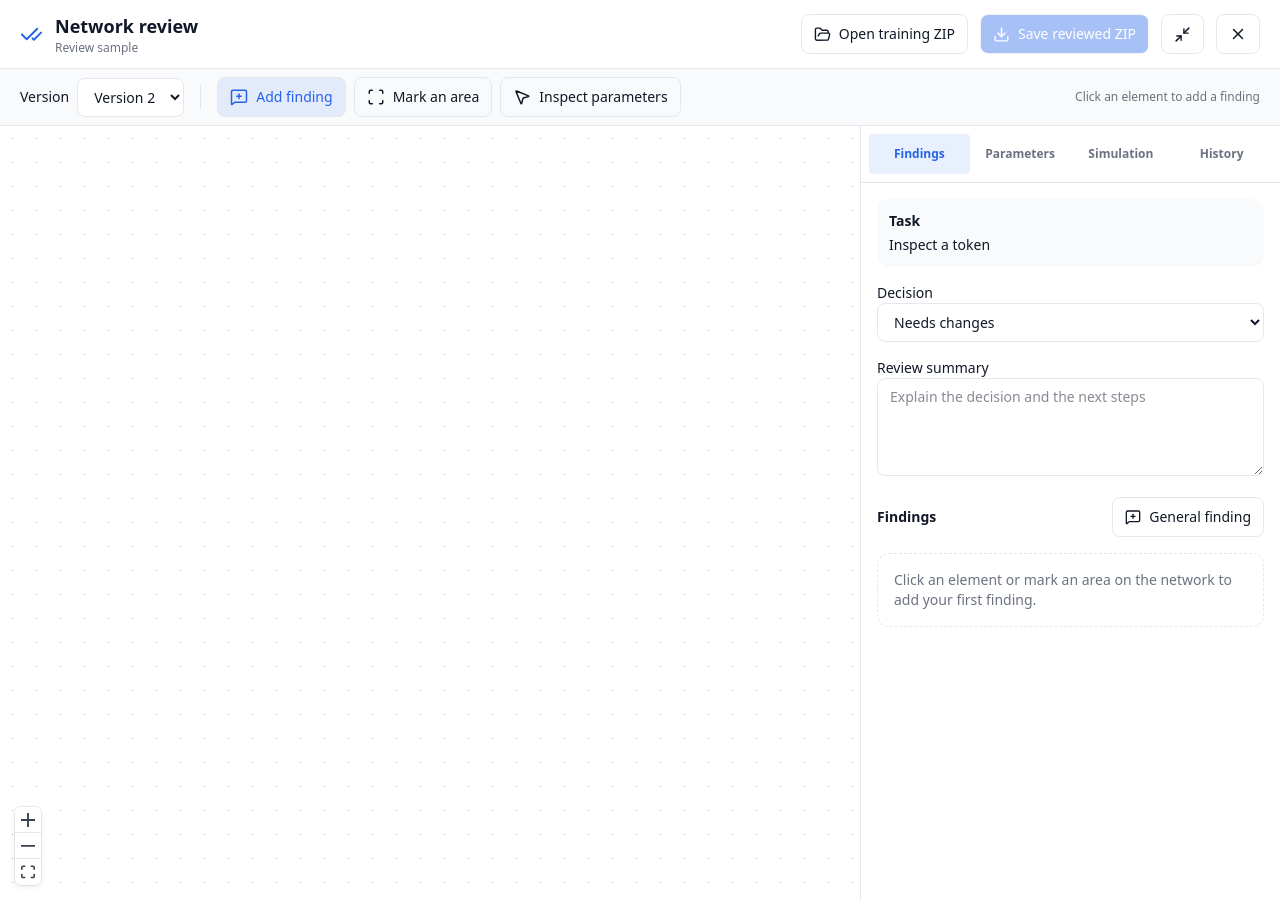
Portable review workspace › requires a reason when automatic runs are disabled
In the text box labelled "Review summary": (1070, 427) [877,378,1264,476], type "Structure only"
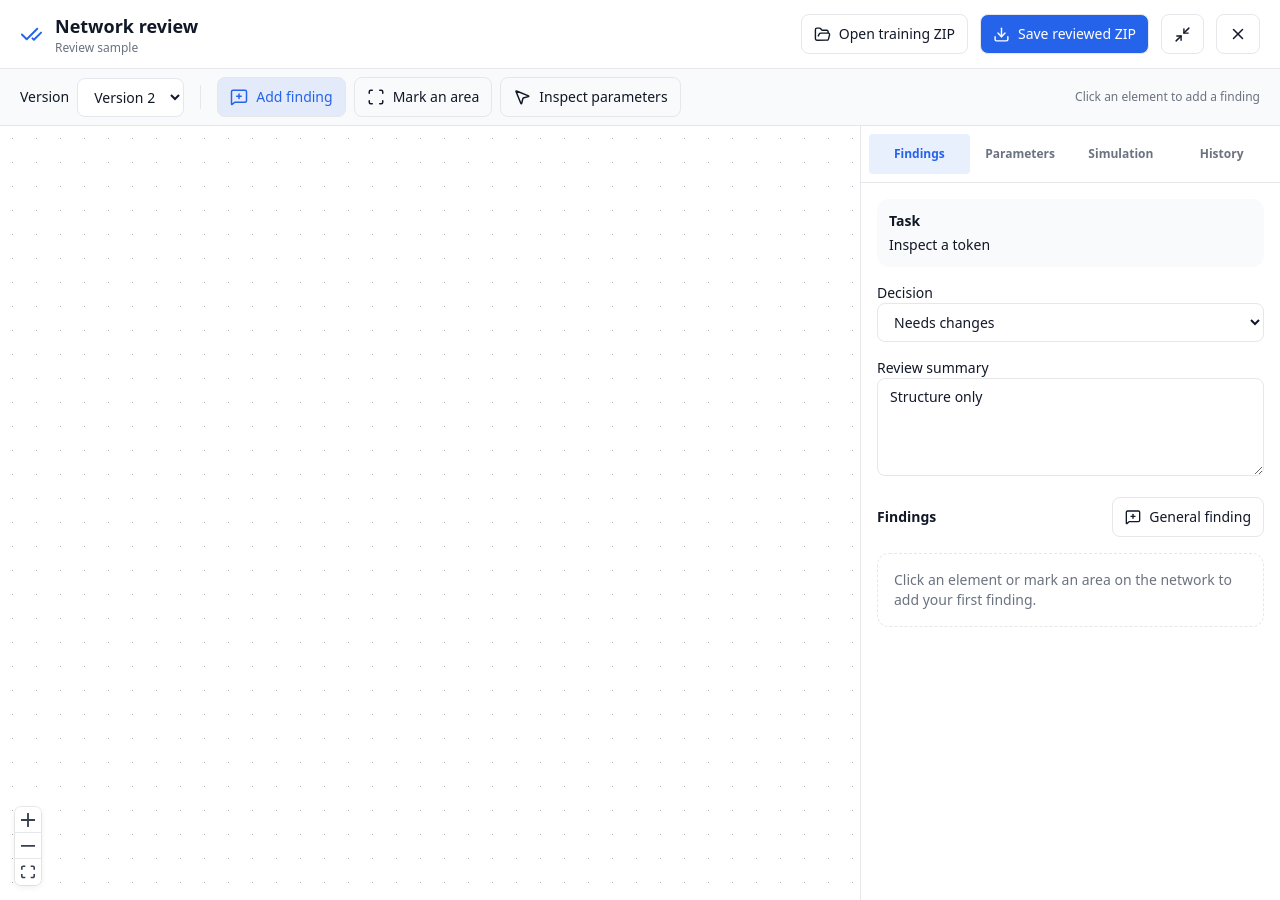
Click the button "Simulation": (1121, 154) [1070,134,1171,174]
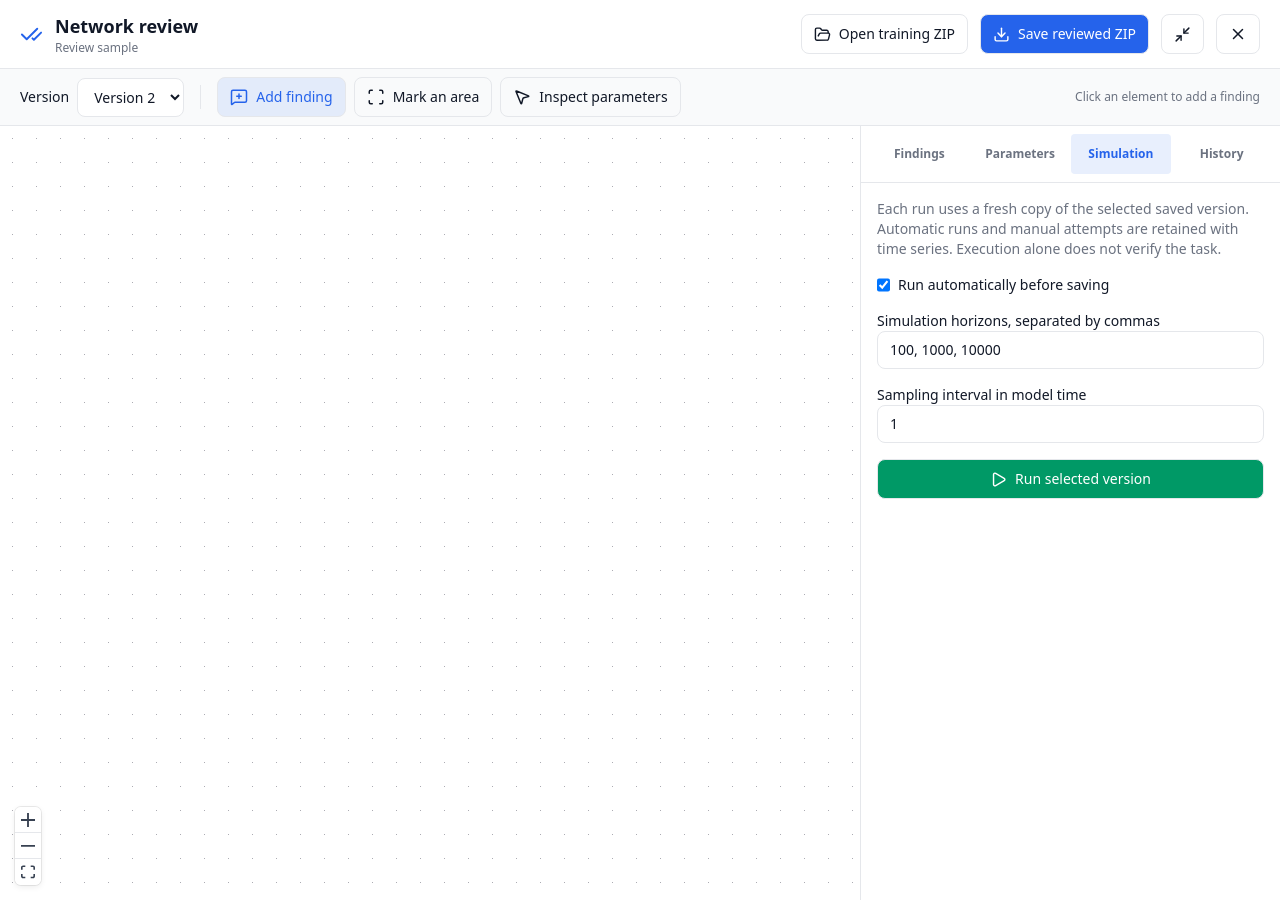
Click the checkbox labelled "Run automatically before saving": (884, 285) [877,275,890,295]
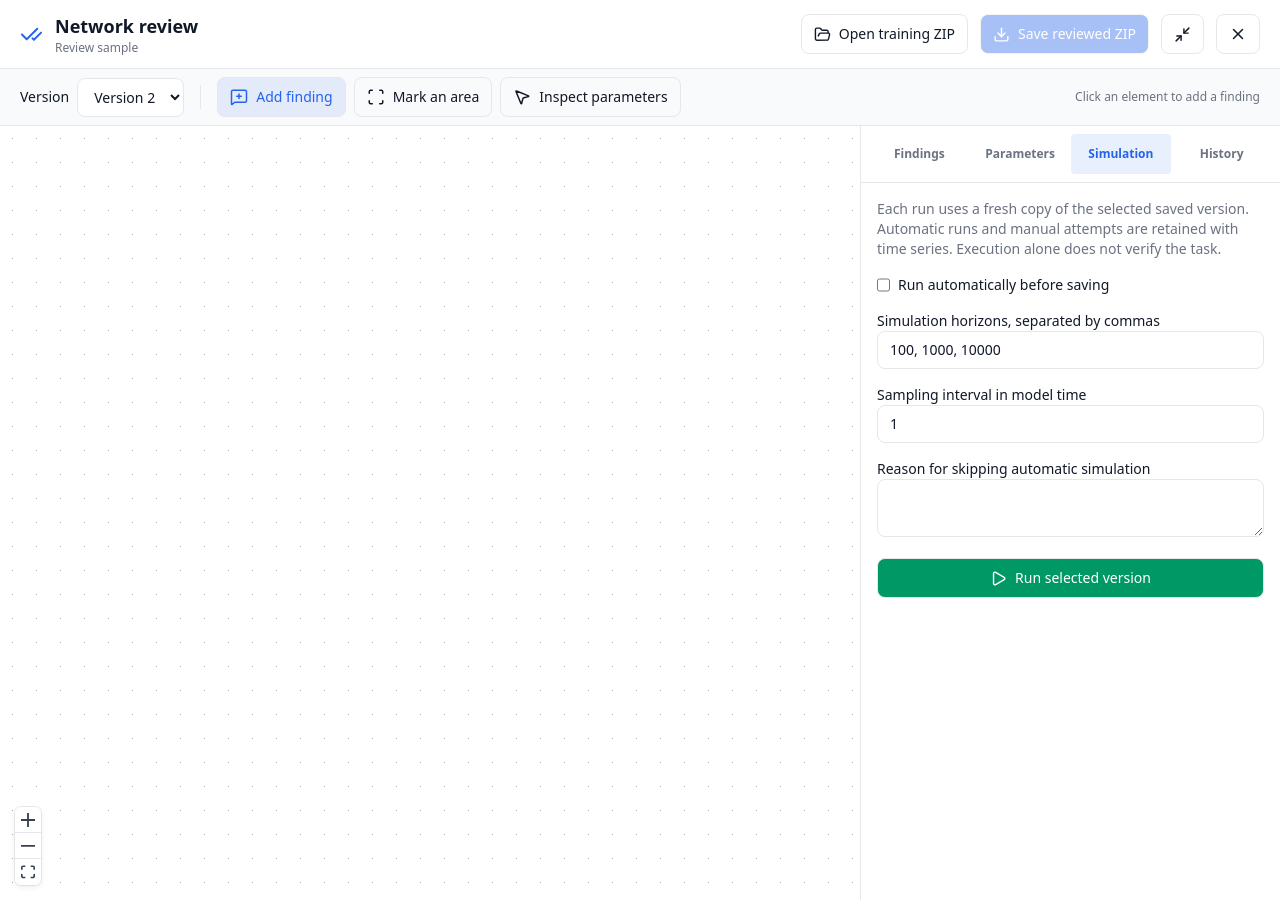
Now the button "Save reviewed ZIP" is disabled, box [980,14,1149,54]
In the text box labelled "Reason for skipping automatic simulation": (1070, 508) [877,479,1264,537], type "This task concerns structure"
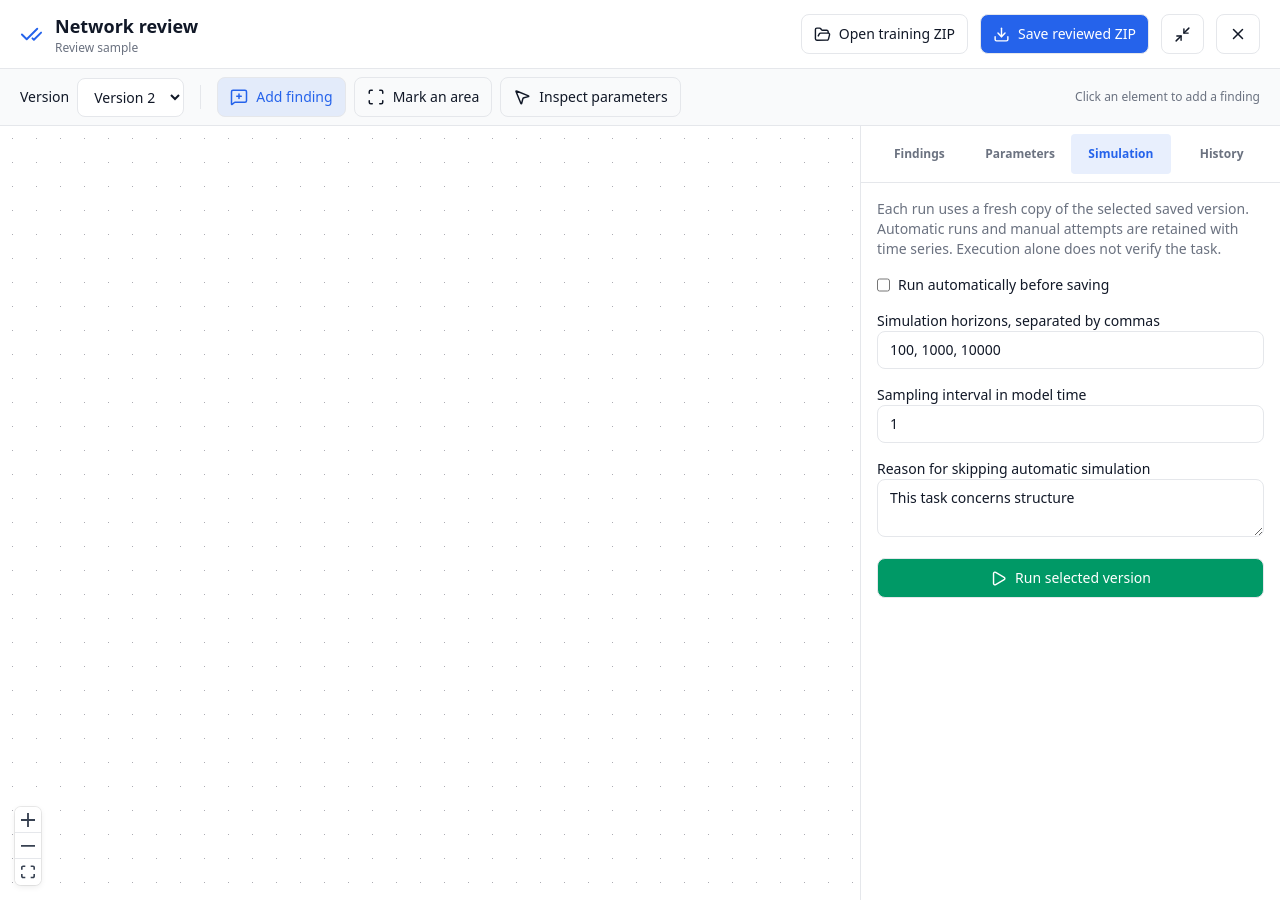
Now the button "Save reviewed ZIP" is enabled, box [980,14,1149,54]
